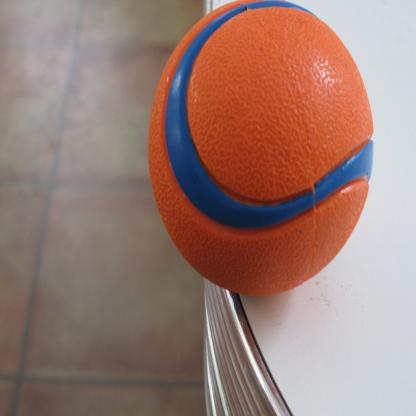Ball: (149, 0, 374, 297)
